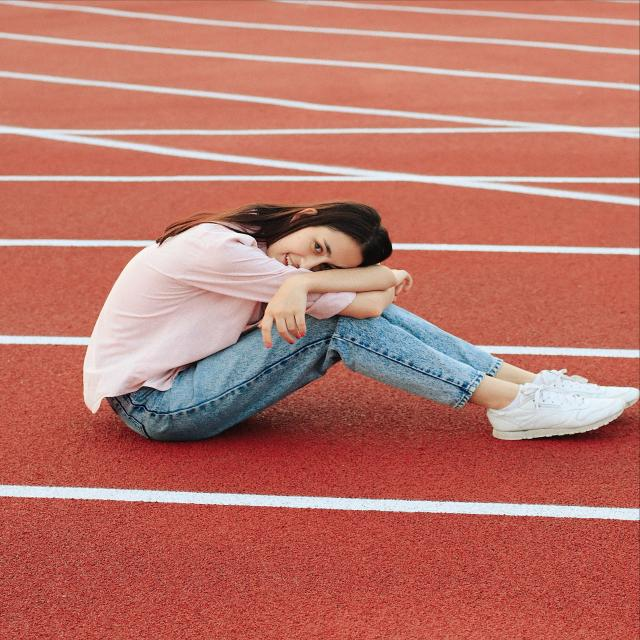adult: (77, 200, 640, 444)
